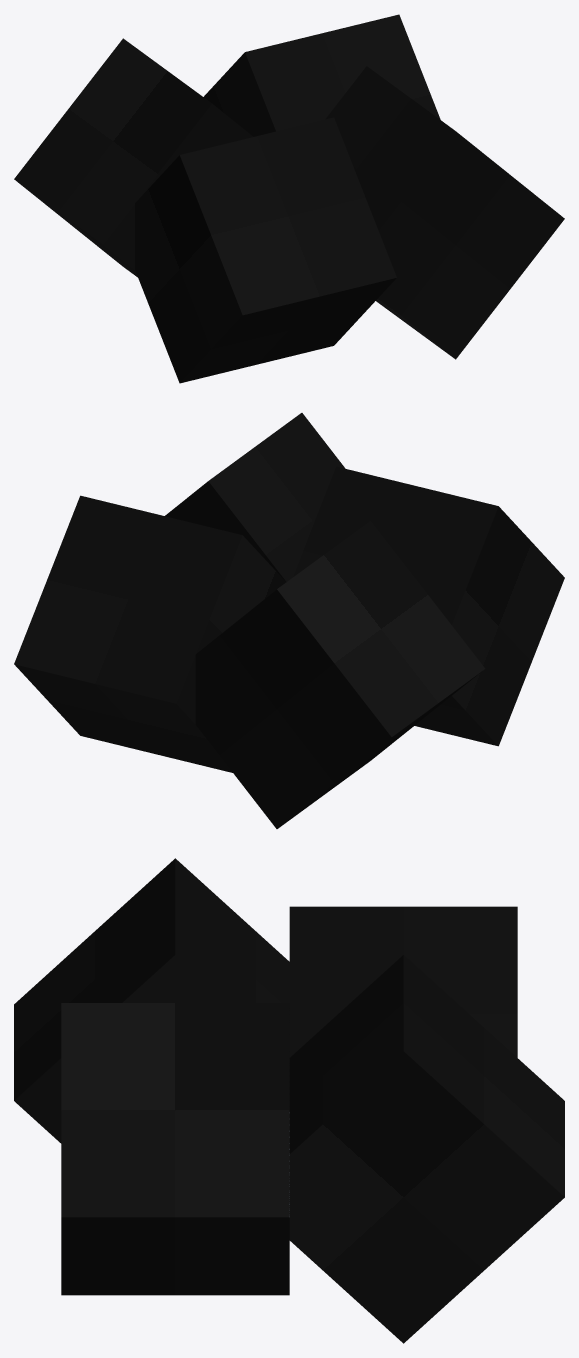
File: station_fumefilter_coal.obj
The picture shows the model from 3 angles, top to bottom: view 1: azimuth 30°, elevation 25°; view 2: azimuth 150°, elevation 25°; view 3: azimuth 270°, elevation 25°; orthographic projection. The views are drawn at different scales.
Visible parts, largest first — view 1: COAL_Cube.006; view 2: COAL_Cube.006; view 3: COAL_Cube.006.
Part boxes in pixels (box(x1,y1,x2,y2)): COAL_Cube.006: box(14, 14, 564, 383); COAL_Cube.006: box(14, 413, 564, 828); COAL_Cube.006: box(14, 858, 564, 1343).
Bounding box in the file's own units: 0.3018 × 0.1768 × 0.3018.
